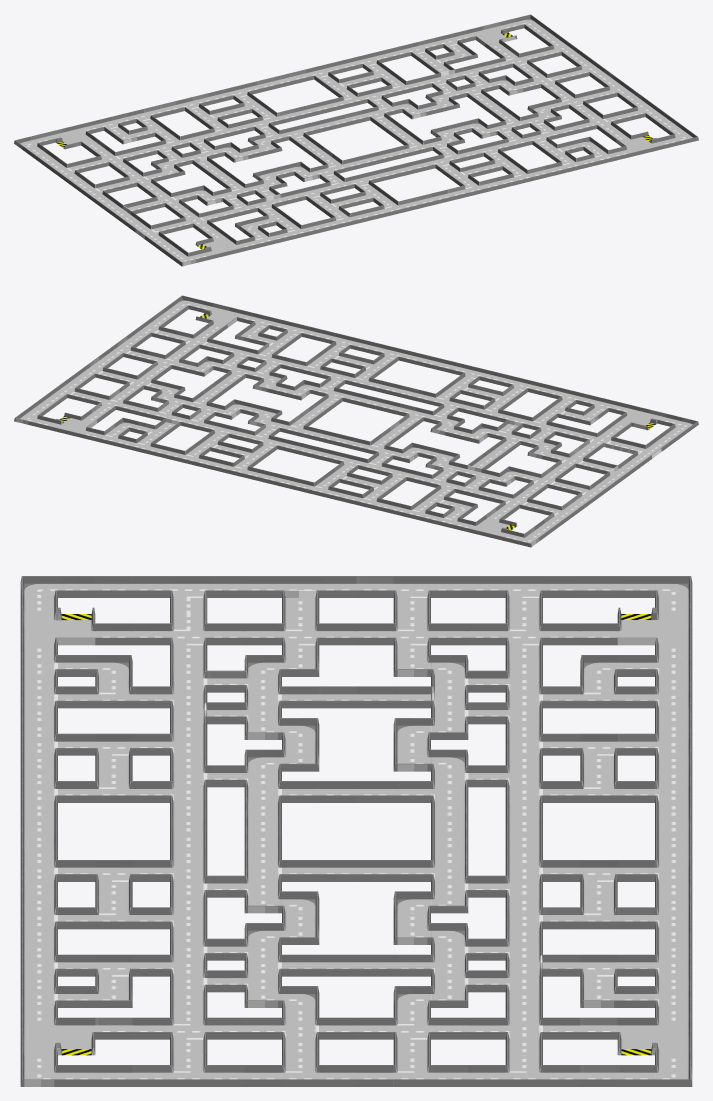
Rendered from SM_Roads.FBX.
The picture shows the model from 3 angles, top to bottom: view 1: azimuth 30°, elevation 25°; view 2: azimuth 150°, elevation 25°; view 3: azimuth 270°, elevation 25°; orthographic projection. The views are drawn at different scales.
Parts seen in each view (by area): view 1: Roads; view 2: Roads; view 3: Roads.
Boxes of the visible parts, x1=… form: Roads: x1=14, y1=14, x2=698, y2=266; Roads: x1=14, y1=295, x2=698, y2=547; Roads: x1=20, y1=576, x2=692, y2=1086.
Size of the model in its own units: 3200 by 1800 by 20.
